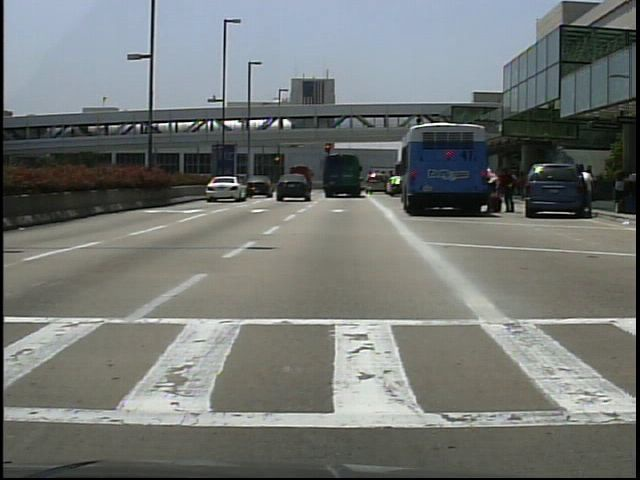person: (482, 163, 500, 216), (502, 164, 520, 214), (582, 168, 599, 213)
